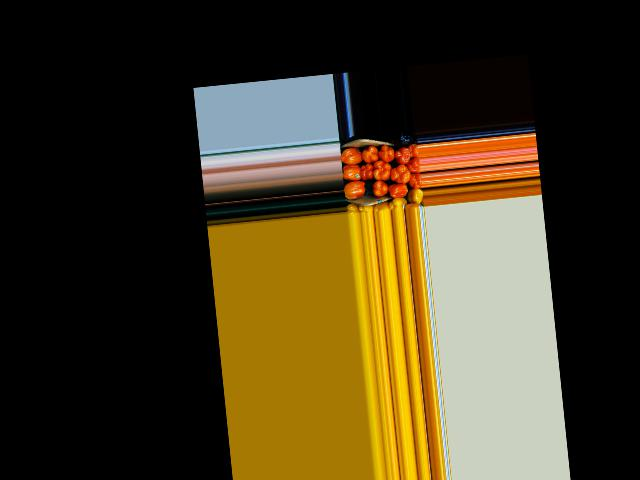bell_pepper: (385, 197, 408, 209)
